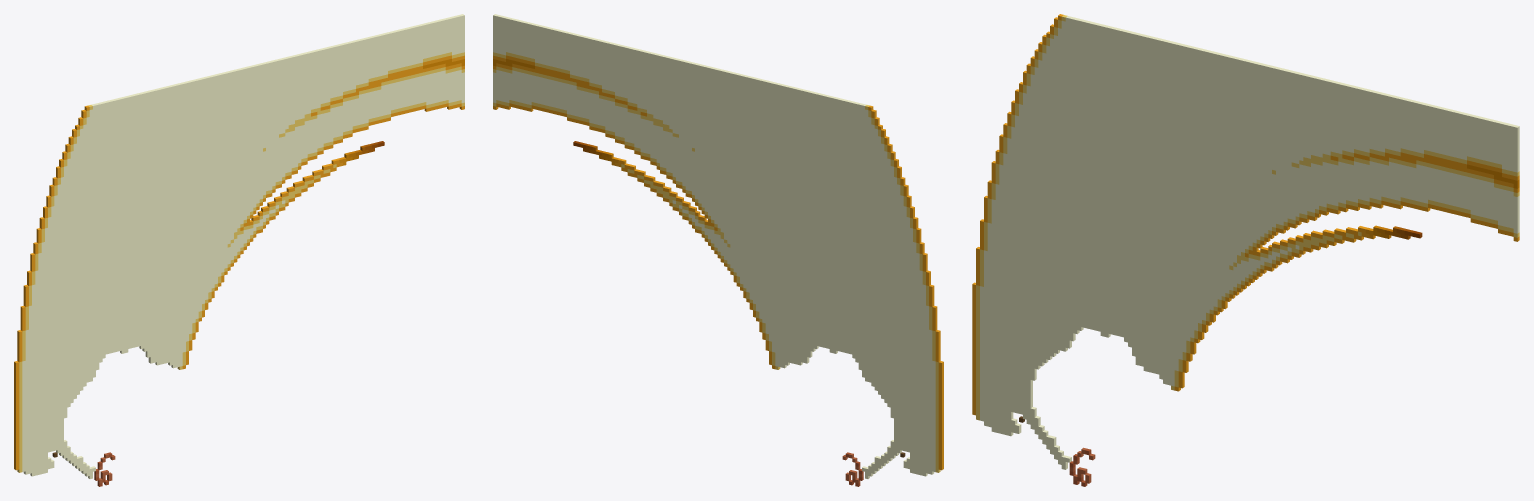
Rendered from Fight_016_2_03_fx.obj.
3 renders of one model, left to right at view 1: azimuth 30°, elevation 25°; view 2: azimuth 150°, elevation 25°; view 3: azimuth 330°, elevation 25°, orthographic. The views are drawn at different scales.
Bounding box in the file's own units: 14 × 11.4 × 0.1.
